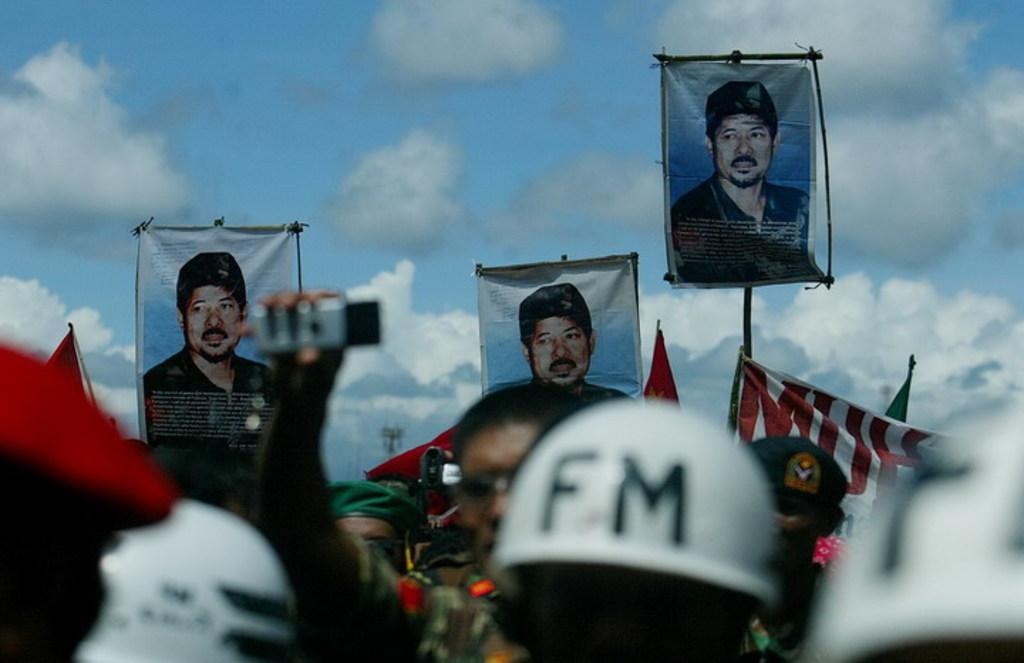Hat: (0, 345, 169, 524), (744, 439, 850, 510), (326, 478, 428, 532)
